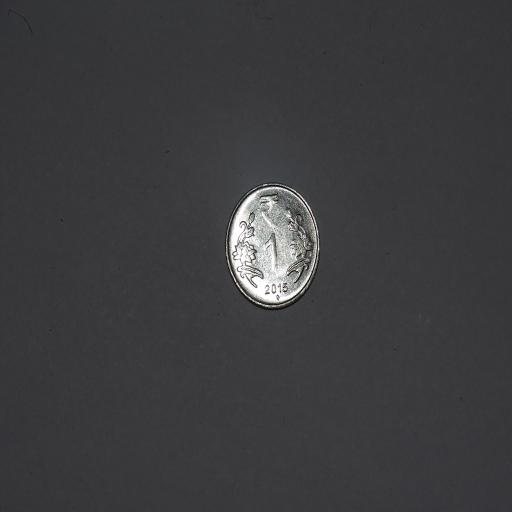rupee1: (225, 182, 320, 308)
